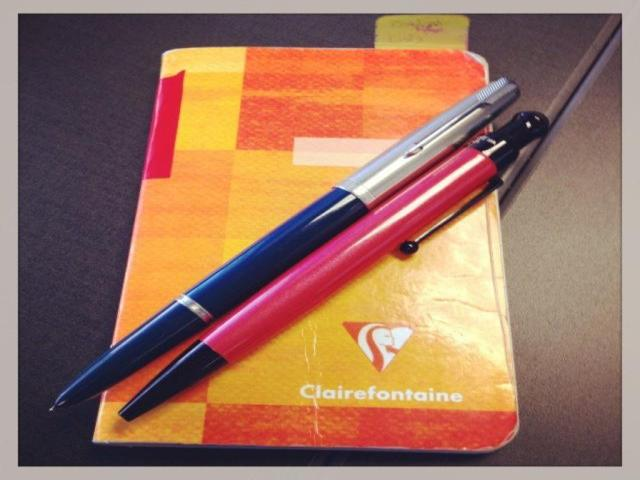PEN: (24, 61, 534, 433), (107, 73, 570, 467)
